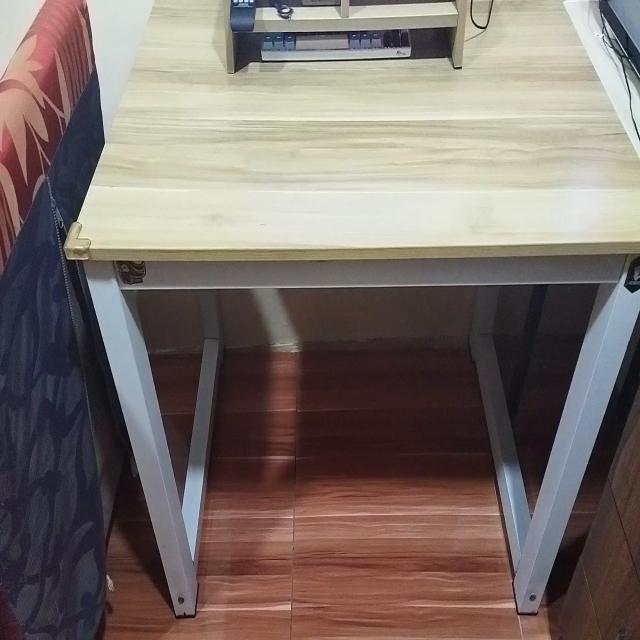table: (59, 0, 640, 617)
